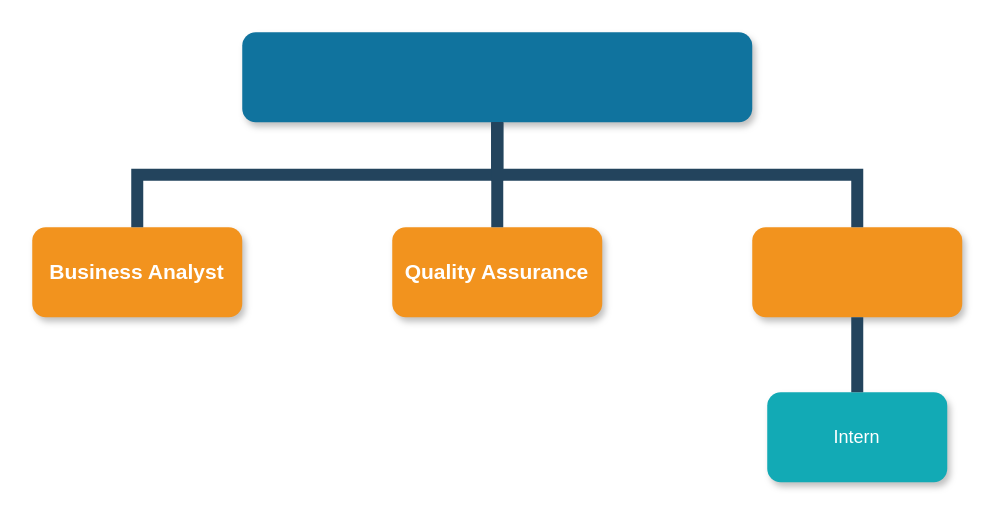
Some shapes in this 996 by 518 pixel diagram are drawn without their labels. Each missing label, with the centre of its shape:
"Project Manager" goes at point (498, 79).
"Software Engineer / Senior Software Engineer" goes at point (858, 273).
